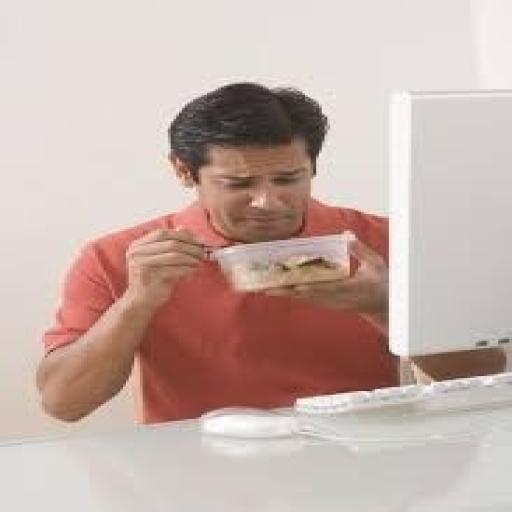eating: (34, 80, 400, 426)
